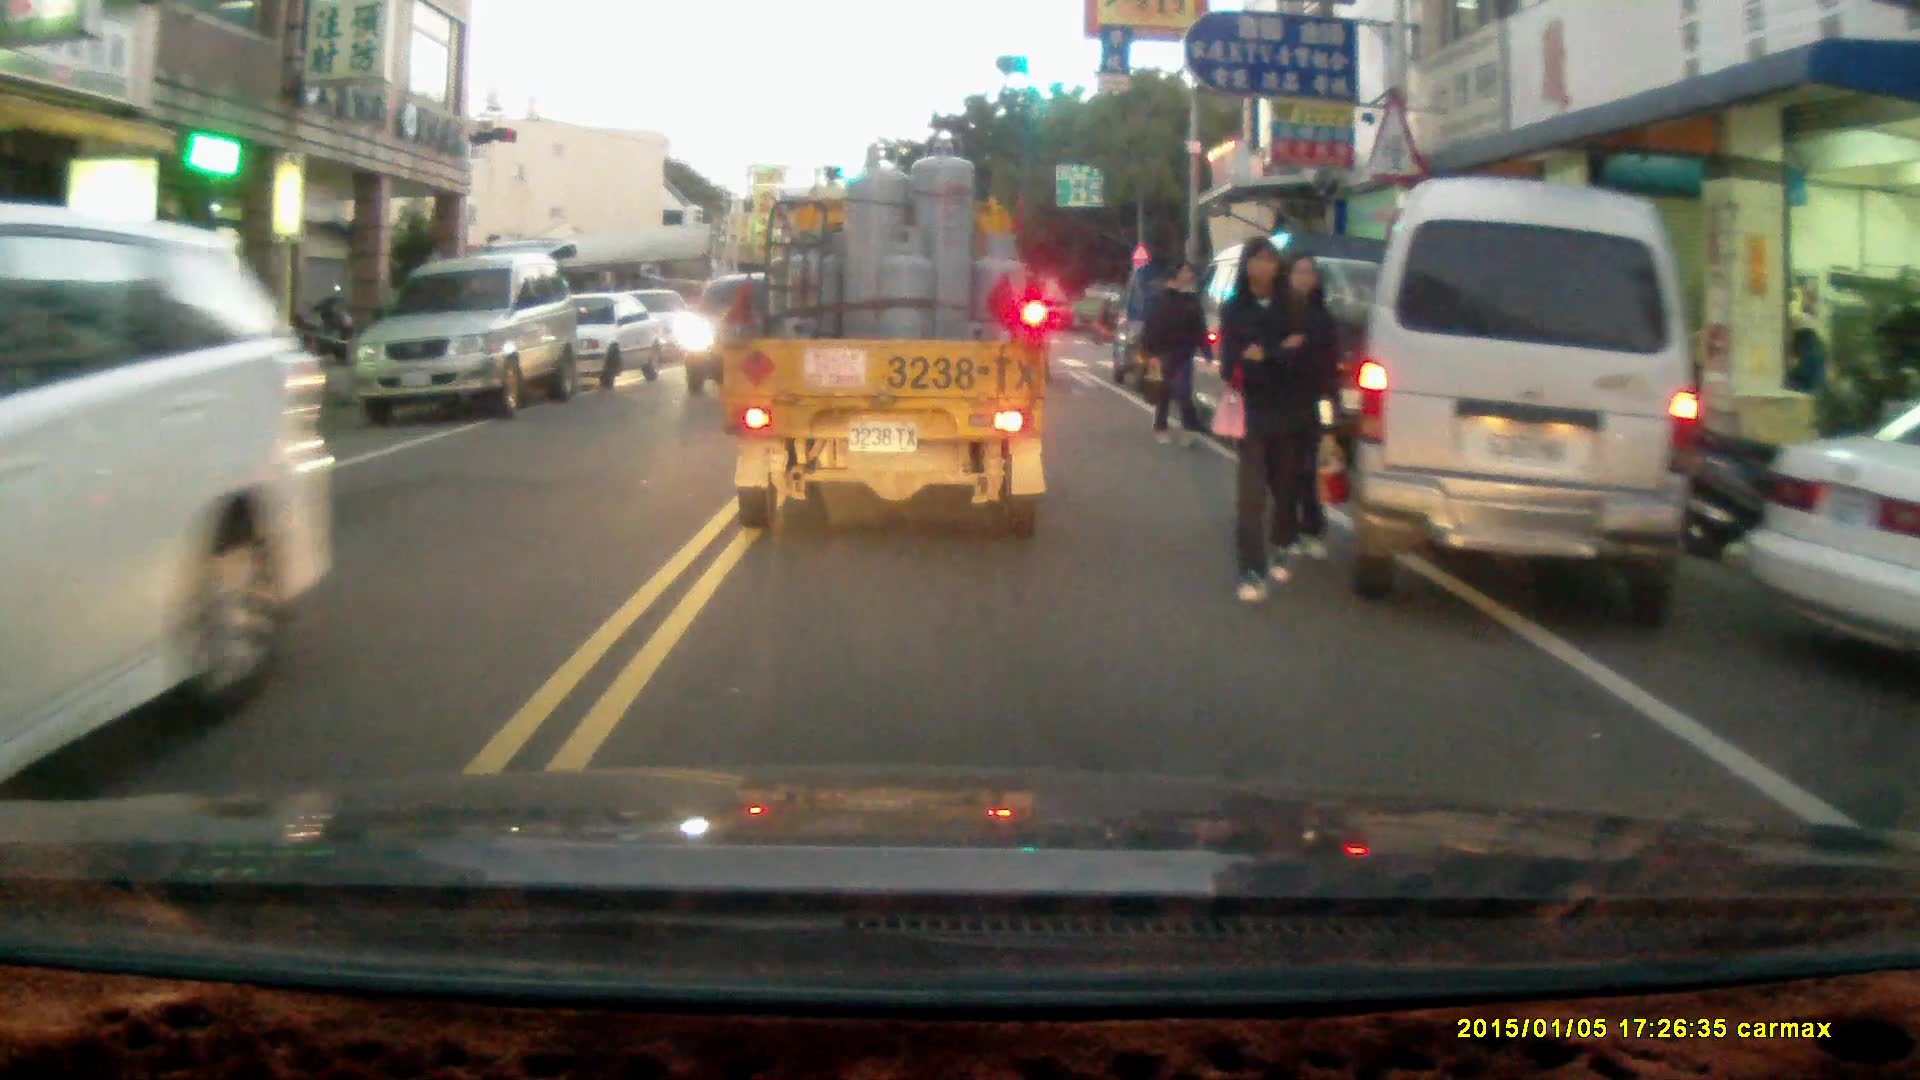pedestrian: (1218, 229, 1309, 600), (1143, 261, 1207, 454)
rider: (1091, 292, 1126, 341)
vehicle: (1, 209, 339, 801), (1346, 180, 1703, 630), (716, 133, 1054, 534), (1167, 226, 1455, 448), (1744, 408, 1920, 655), (355, 247, 584, 428), (515, 291, 670, 392)
